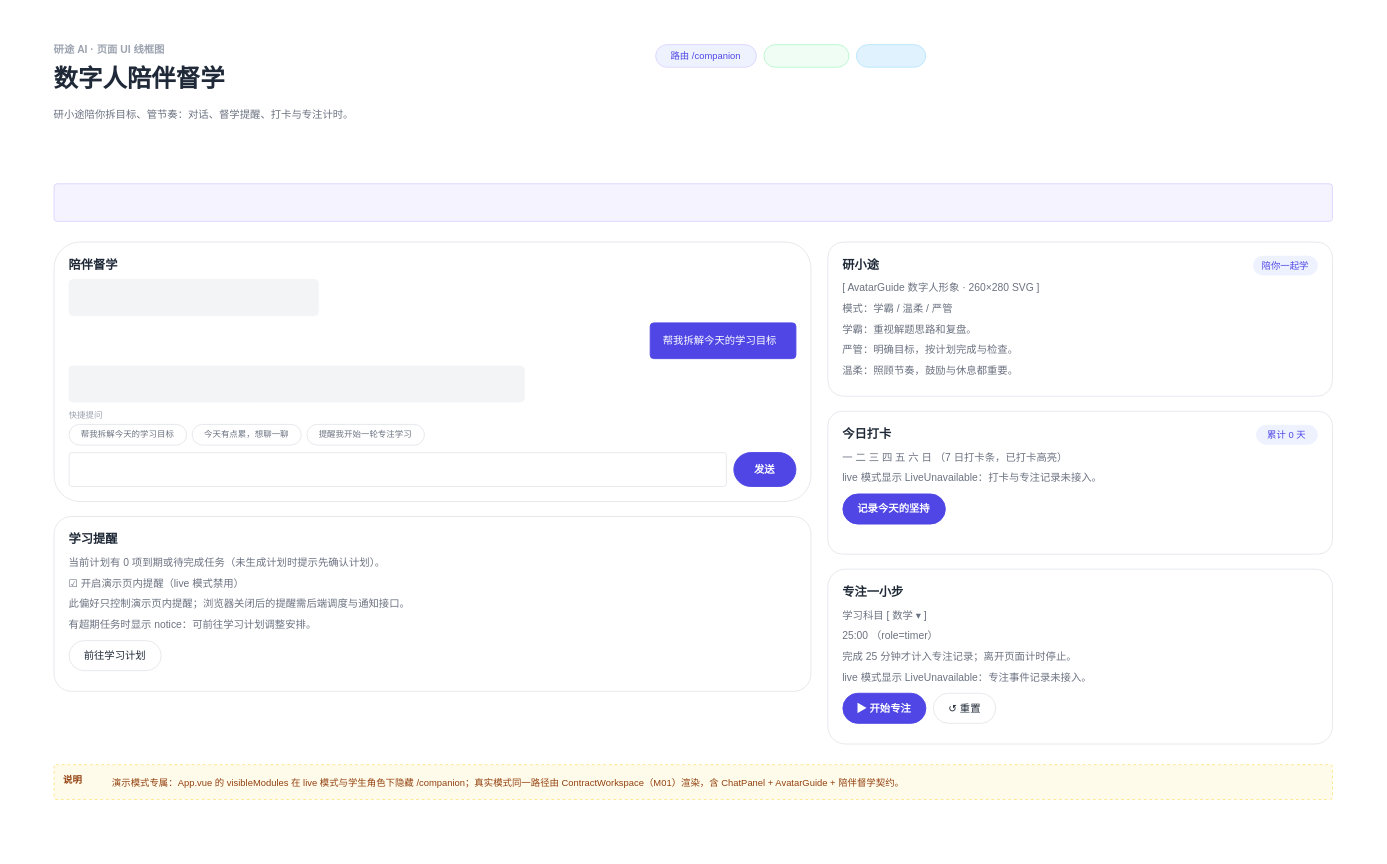
The diagram is 1387 pixels wide and 864 high, and some of its shapes have lost their labels. The shapes that lost their labels are listed below. From the top down, each one's centre as x and y in pixels, then its label:
(806,55): 角色 STUDENT
(890,55): 模式 demo
(692,202): ⓘ 当前为前端演示。示例院校、学习资料与 AI 回复均不代表真实业务结果；本地学习操作仅保存在本浏览器。
(193,297): 你好，我是研小途。今天想先完成什么小目标？
(296,383): 【演示陪伴】先给自己一个可完成的小目标：用 25 分钟完成一个知识点，再休息 5 分钟。
(397,469): 输入你的问题…
